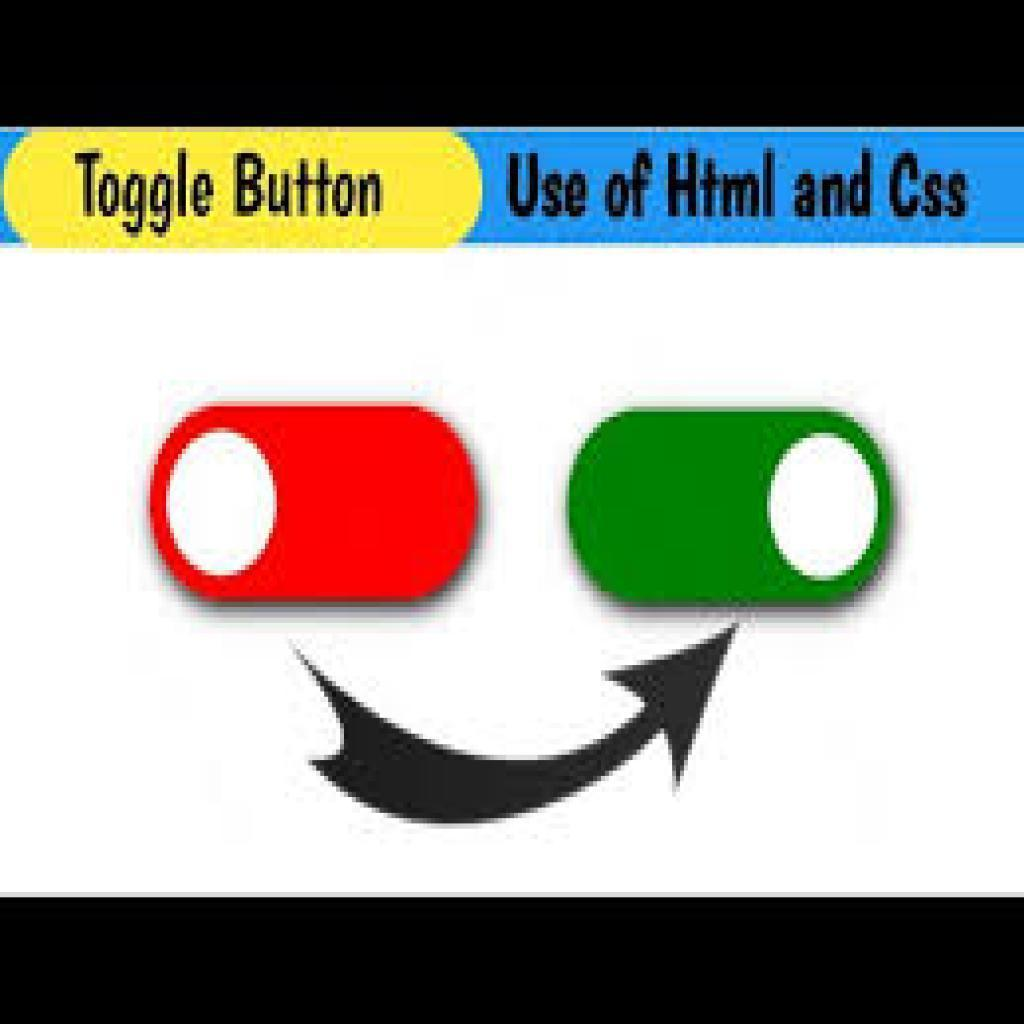switch: (150, 406, 478, 601), (569, 410, 895, 605)
